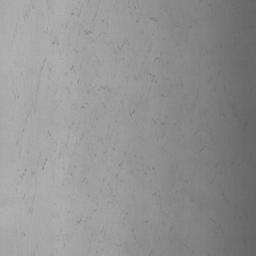Silk spot: (18, 134, 89, 179), (79, 12, 108, 41), (144, 72, 172, 97), (35, 58, 51, 96), (87, 84, 111, 94)
